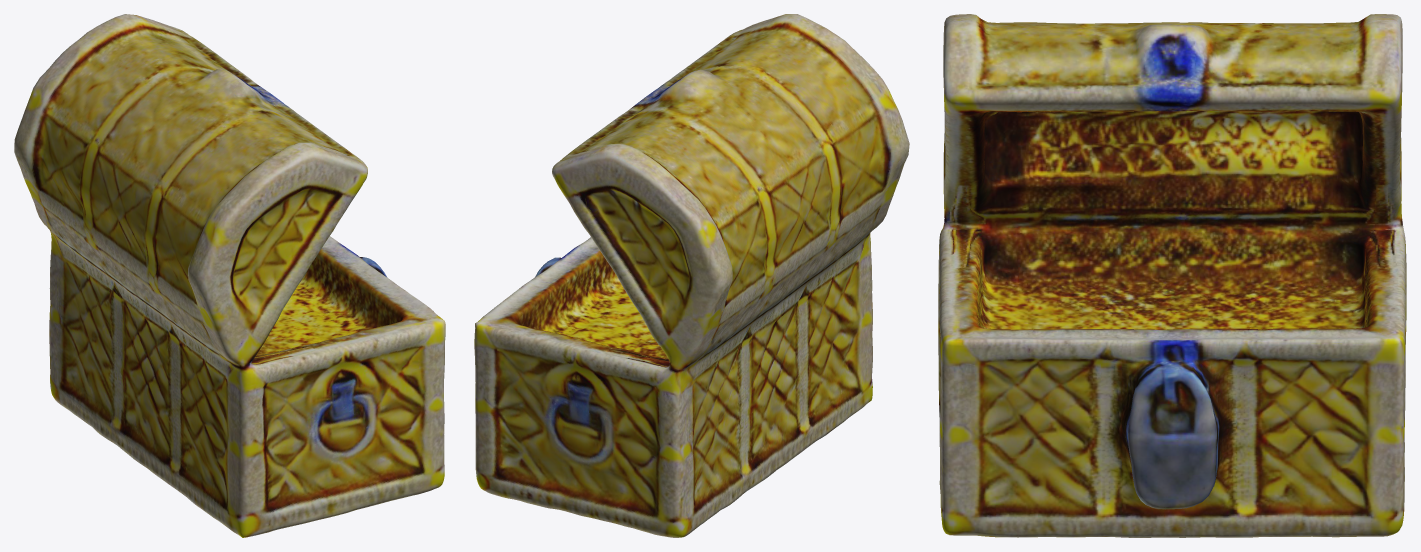
Rendered from chest.glb.
3 renders of one model, left to right at view 1: azimuth 30°, elevation 25°; view 2: azimuth 150°, elevation 25°; view 3: azimuth 270°, elevation 25°, orthographic. The views are drawn at different scales.
Visible parts, largest first — view 1: mesh; view 2: mesh; view 3: mesh.
Part boxes in pixels (bbox=[...]): mesh: bbox=[14, 14, 445, 537]; mesh: bbox=[474, 14, 909, 537]; mesh: bbox=[938, 14, 1406, 537].
Size of the model in its own units: 0.8106 by 0.9996 by 0.9537.
1 material, 1 textured.
